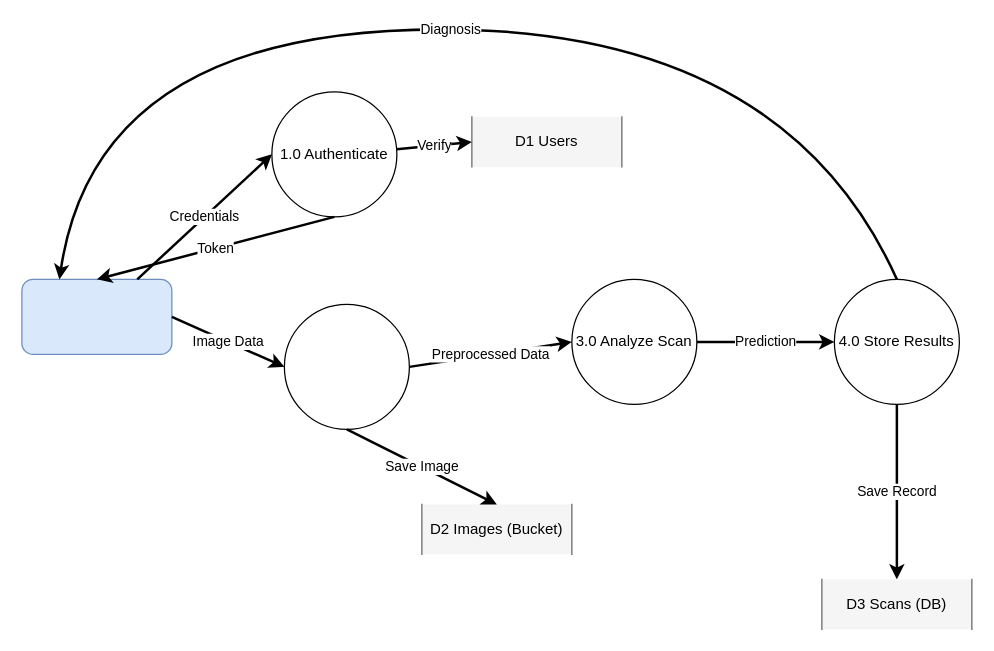
This 994x651 diagram has some shape labels left out. The box of each missing label's shape, as (x1, y1, x2, y2) in pixels:
2.0 Upload Scan: (283, 303, 409, 429)
Patient / Doctor: (21, 278, 172, 354)
